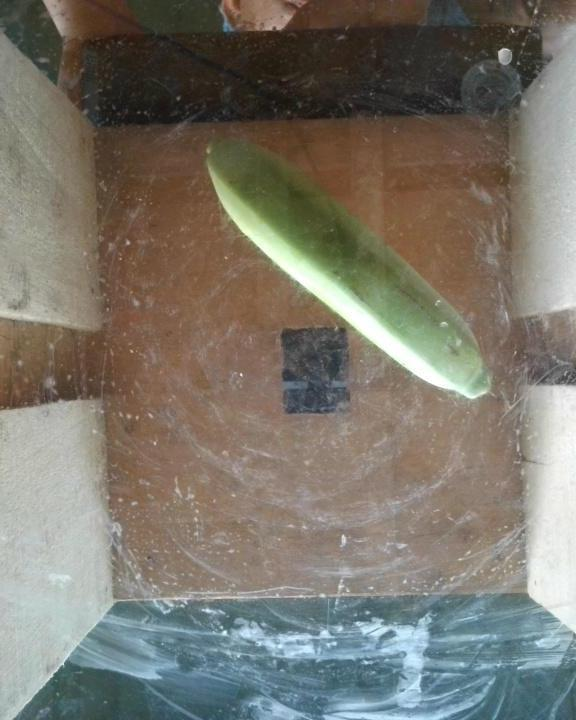CLASS B: (202, 133, 499, 398)
Class A: (390, 281, 444, 330), (443, 339, 468, 372)
